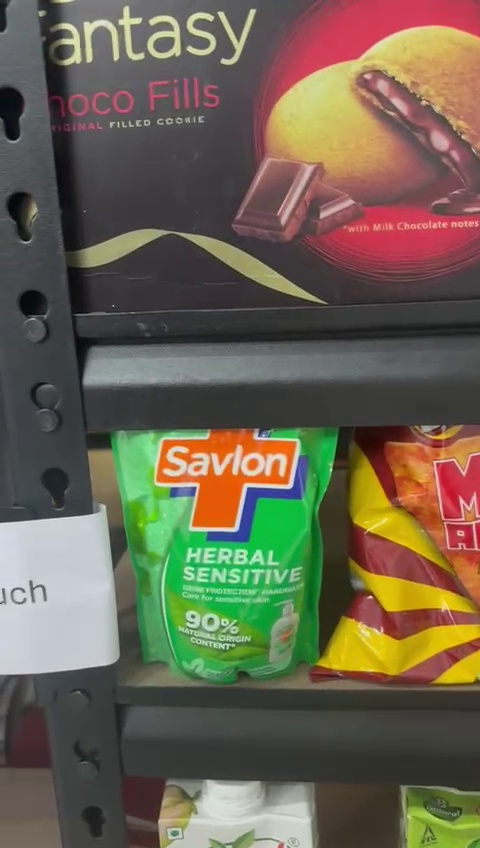Savlon Herbal: (107, 431, 317, 680)
